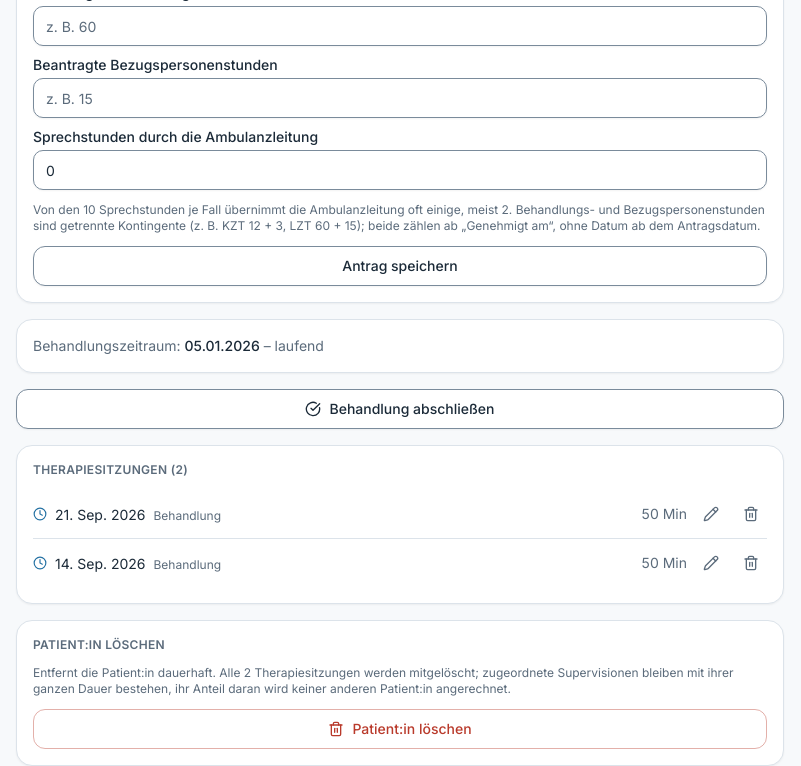
PatientDetailClient › Chiffre bearbeiten (#74) › übernimmt die Chiffre aus einem anderen Tab auch nach dem Bearbeiten einer Sitzung
(page scrolled)
Click the button named "Sitzung bearbeiten" in the row of "21. Sep. 2026". click: (711, 514)
box: [695, 498, 727, 530]
(page scrolled)
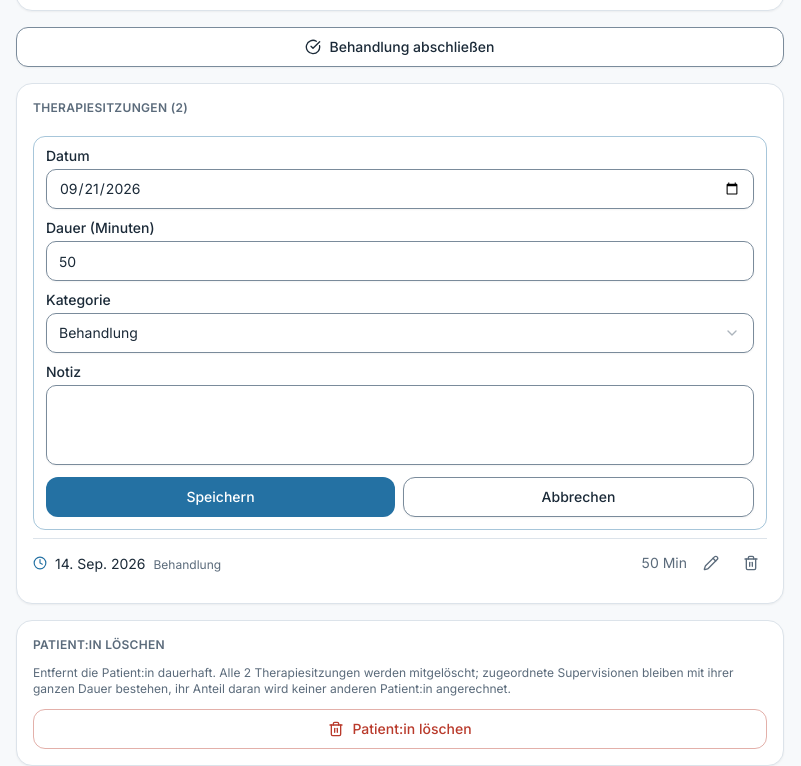
Click the button "Speichern". click: (220, 497)
box: [46, 477, 395, 517]
(page scrolled)
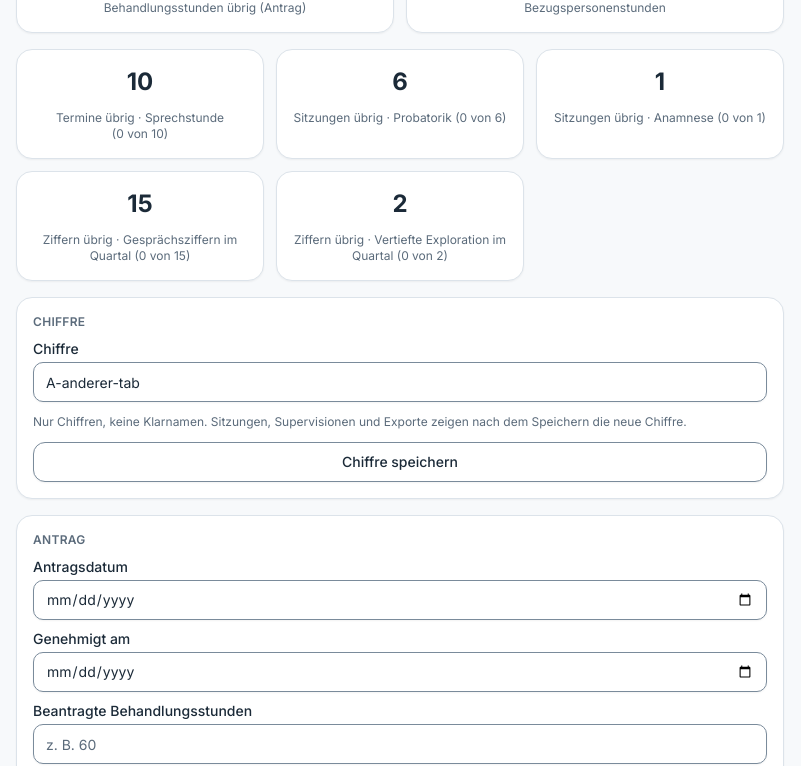
Check: the field labelled "Chiffre" holds "A-anderer-tab", box [33, 362, 767, 402]
